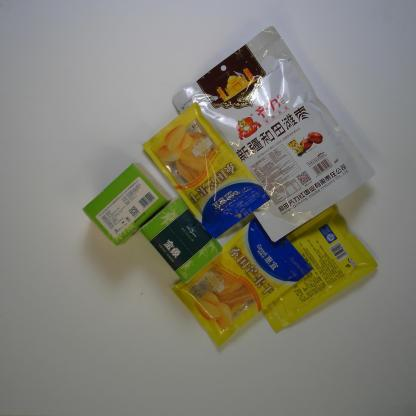Dried Food: (170, 25, 376, 246)
Dried Fruit: (172, 216, 313, 349), (140, 101, 270, 240), (260, 202, 380, 332)
Tissue: (80, 160, 170, 248), (139, 196, 224, 287)
